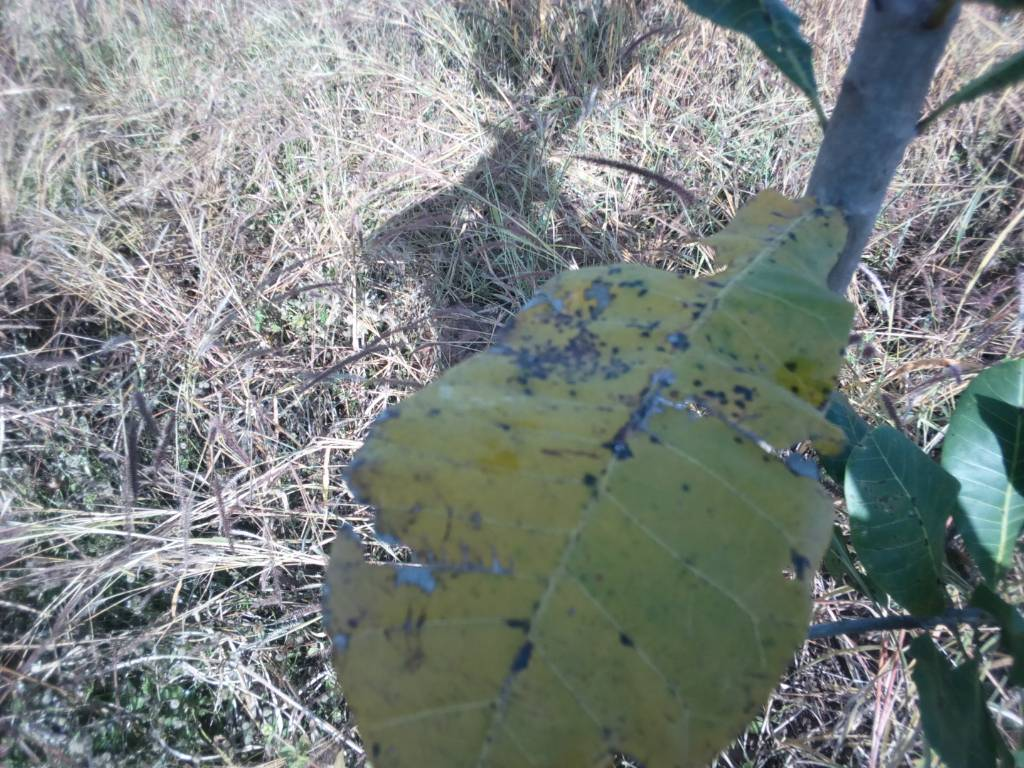Anthracnose: (330, 135, 853, 762), (839, 426, 960, 615)
